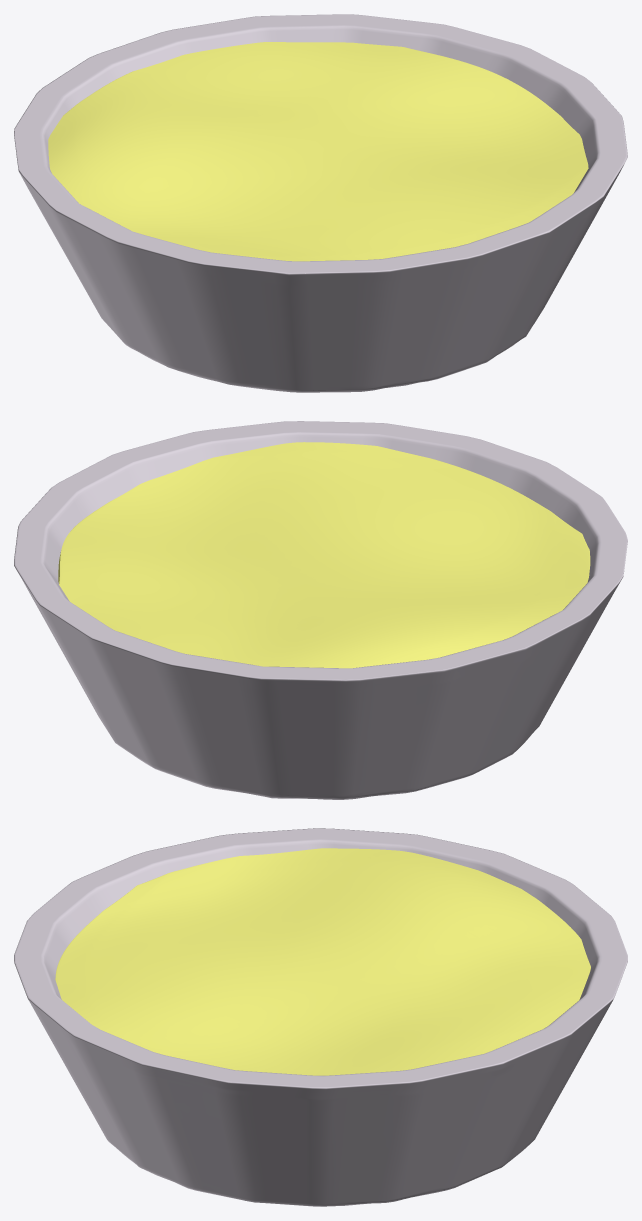
The model's file is MeltedButter.fbx.
3 views of the same model, one above another, from view 1: azimuth 30°, elevation 25°; view 2: azimuth 150°, elevation 25°; view 3: azimuth 270°, elevation 25° (orthographic).
Visible parts, largest first — view 1: MeltedButter, BowlofMeltedButter; view 2: MeltedButter, BowlofMeltedButter; view 3: MeltedButter, BowlofMeltedButter.
Boxes of the visible parts, left/top/right/bottom form: MeltedButter: left=48, top=42, right=588, bottom=261; BowlofMeltedButter: left=14, top=14, right=627, bottom=392; MeltedButter: left=58, top=442, right=590, bottom=668; BowlofMeltedButter: left=14, top=421, right=627, bottom=799; MeltedButter: left=55, top=848, right=590, bottom=1075; BowlofMeltedButter: left=14, top=828, right=627, bottom=1206.
Bounding box in the file's own units: 32.73 × 9.14 × 32.71.
